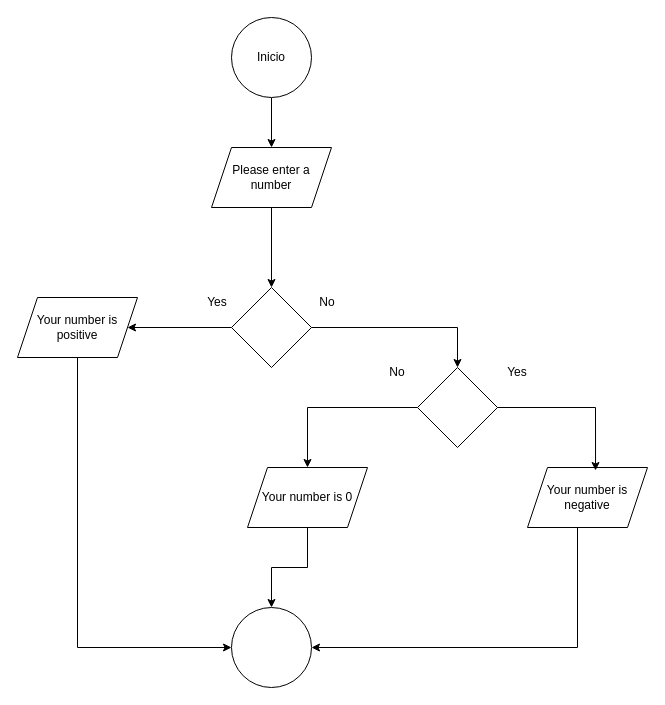
Image size: 665x705. Some labels were removed from this diagram. Each missing label, with the box of its shape:
Fin: (230, 606, 312, 688)
num < 0: (416, 366, 498, 448)
num > 0: (230, 286, 312, 368)
